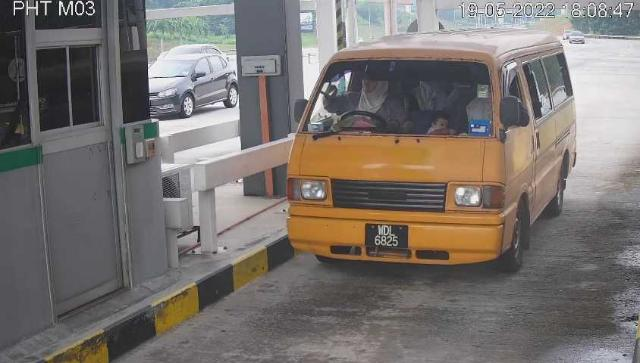License_Plate: (364, 223, 411, 254)
van: (288, 31, 578, 274)
